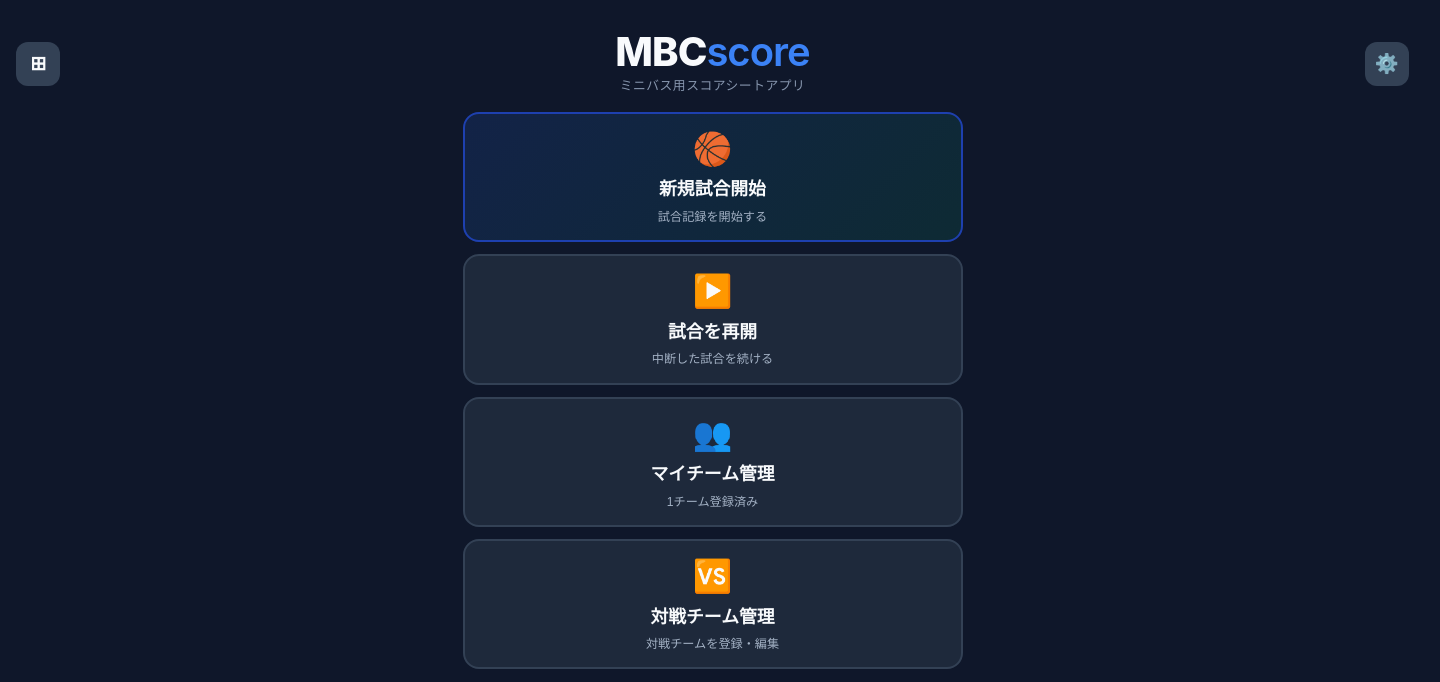
第4Q終了時の未割り当て得点 › 承知のうえで進めば、これまでどおり試合終了の確認へ行く
Click the text "試合を再開". click: coordinates (713, 330)
box: [668,317,757,343]
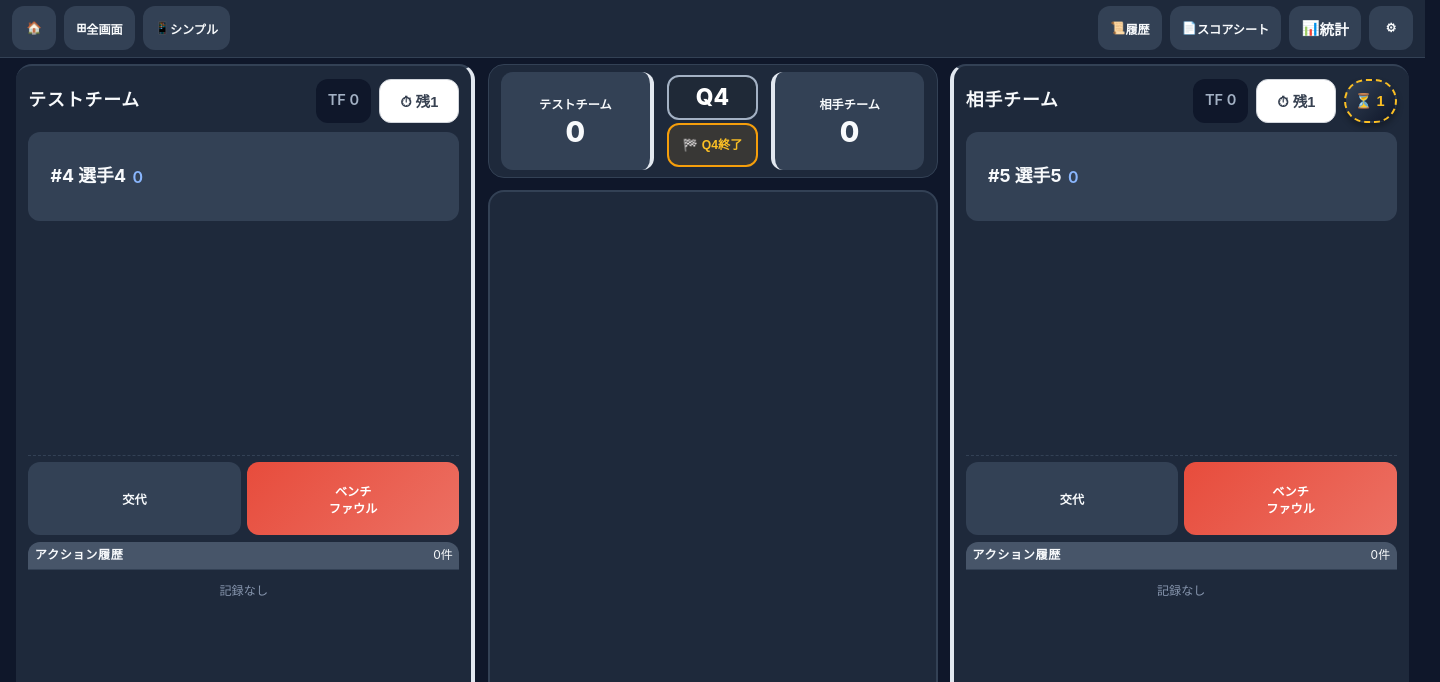
Click the text "Q4終了". click: coordinates (722, 145)
box: [702,138,742,152]
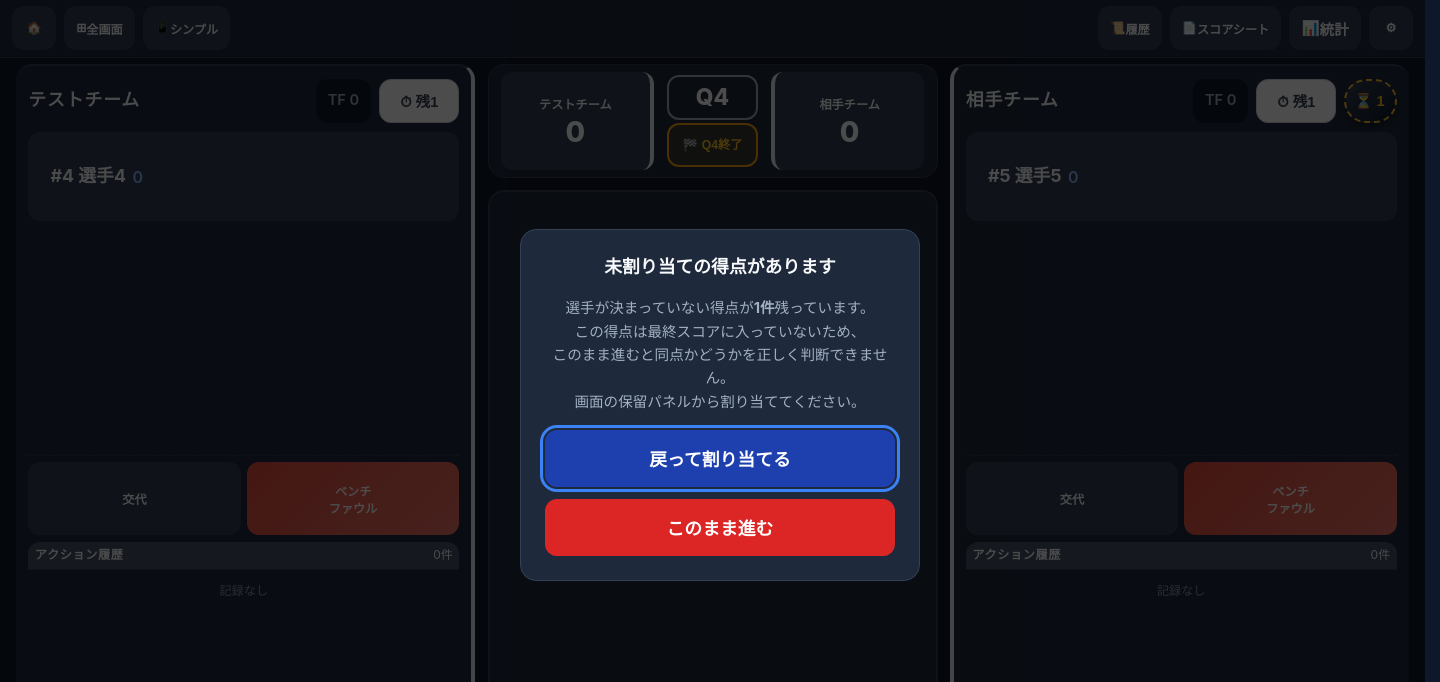
Click the button "このまま進む". click: coordinates (720, 527)
box: [545,499,895,556]
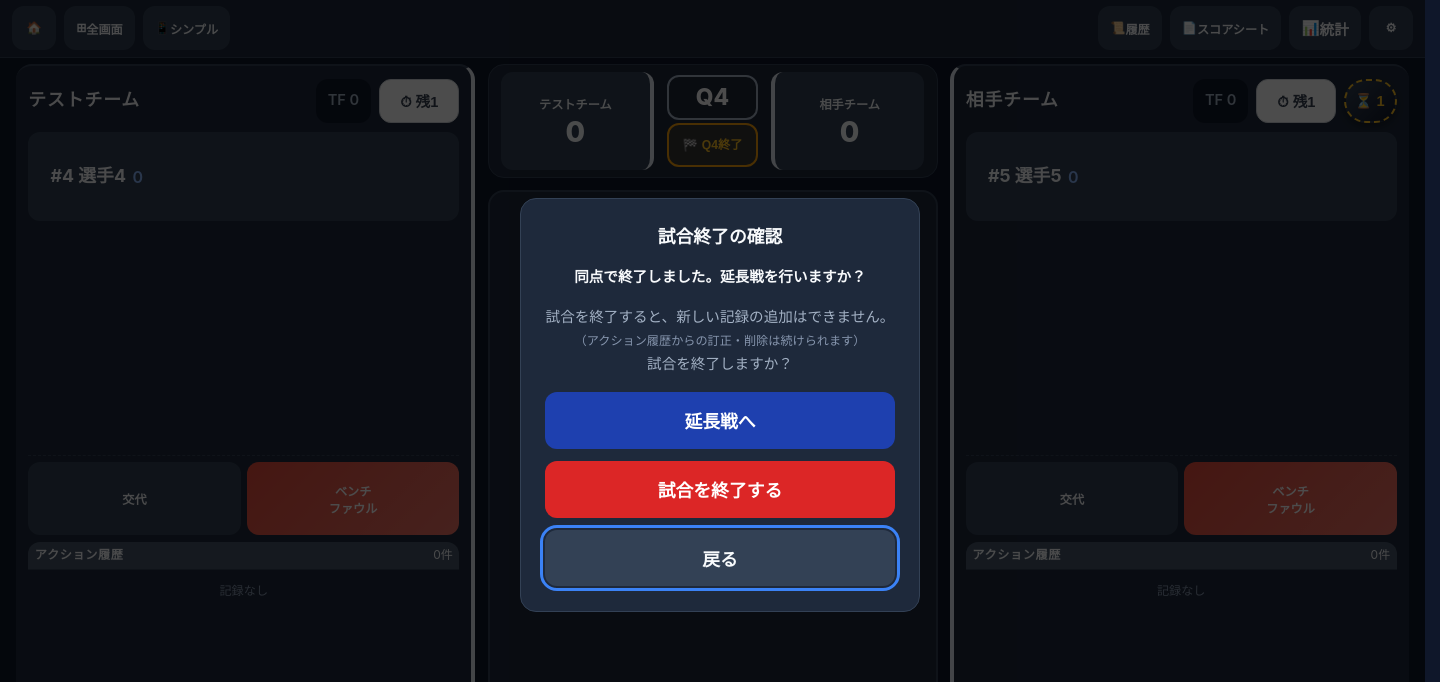
Expected: the heading "試合終了の確認" is shown, [658,226,782,247]
